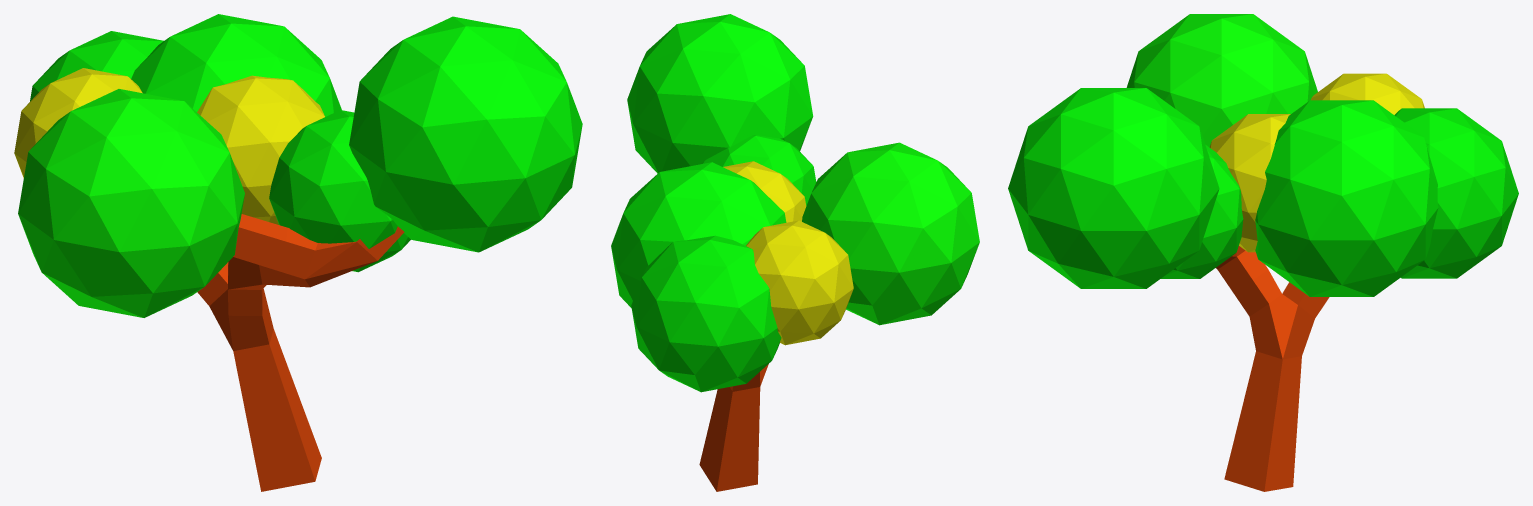
File: drzewo1.fbx
3 renders of one model, left to right at view 1: azimuth 30°, elevation 25°; view 2: azimuth 150°, elevation 25°; view 3: azimuth 270°, elevation 25°, orthographic. The views are drawn at different scales.
Visible parts, largest first — view 1: Kula ico, Kula ico.004, Cube, Kula ico.002, Kula ico.005, Kula ico.006, Kula ico.003, Kula ico.001; view 2: Kula ico.004, Kula ico, Kula ico.001, Kula ico.002, Kula ico.003, Cube, Kula ico.005, Kula ico.006; view 3: Kula ico, Kula ico.002, Kula ico.004, Cube, Kula ico.001, Kula ico.006, Kula ico.005, Kula ico.003.
Boxes of the visible parts, x1,y1,x2,y2 form: Kula ico: [349, 16, 582, 252]; Kula ico.004: [18, 89, 244, 317]; Cube: [197, 214, 404, 491]; Kula ico.002: [131, 14, 341, 116]; Kula ico.005: [269, 110, 410, 272]; Kula ico.006: [197, 75, 324, 224]; Kula ico.003: [14, 68, 142, 178]; Kula ico.001: [30, 31, 163, 101]; Kula ico.004: [802, 142, 979, 325]; Kula ico: [627, 14, 813, 173]; Kula ico.001: [631, 235, 781, 392]; Kula ico.002: [611, 162, 786, 307]; Kula ico.003: [746, 220, 853, 345]; Cube: [699, 364, 768, 491]; Kula ico.005: [702, 135, 816, 205]; Kula ico.006: [723, 161, 806, 222]; Kula ico: [1008, 88, 1219, 288]; Kula ico.002: [1255, 100, 1438, 296]; Kula ico.004: [1126, 14, 1317, 147]; Cube: [1216, 246, 1329, 491]; Kula ico.001: [1394, 108, 1518, 278]; Kula ico.006: [1209, 114, 1290, 252]; Kula ico.005: [1161, 145, 1243, 278]; Kula ico.003: [1311, 73, 1424, 114].
Bounding box in the file's own units: 657 × 662 × 702.
